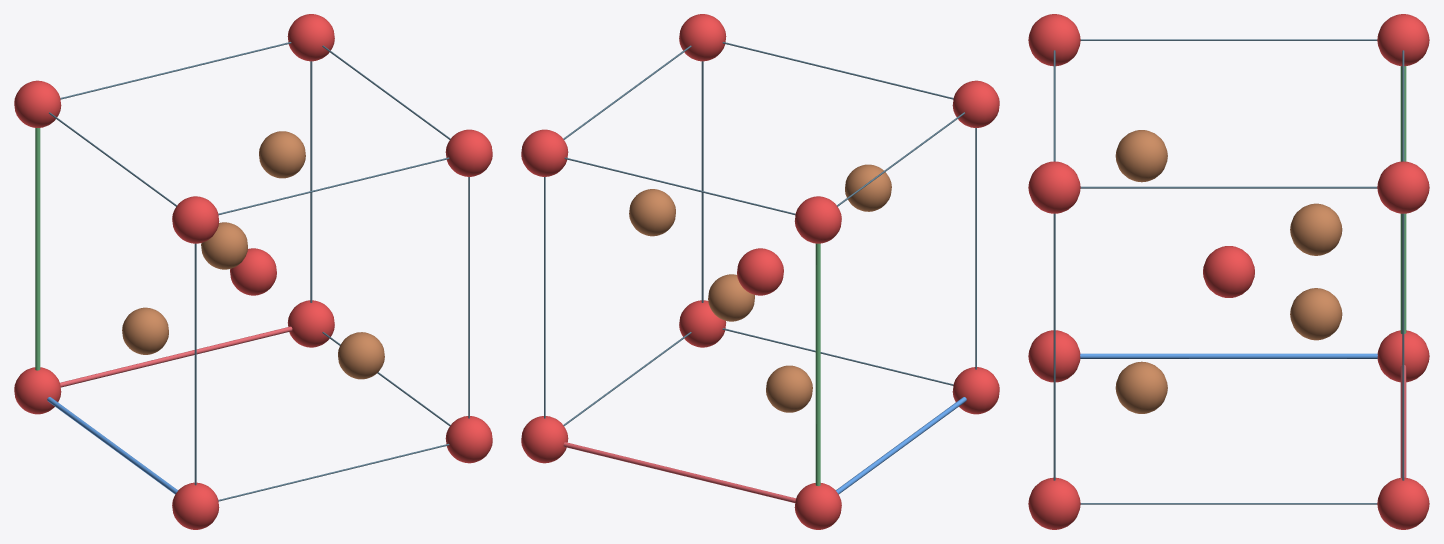
Rendered from chat-cuprite.glb.
3 views of the same model, side by side, from view 1: azimuth 30°, elevation 25°; view 2: azimuth 150°, elevation 25°; view 3: azimuth 270°, elevation 25° (orthographic). The views are drawn at different scales.
Parts seen in each view (by area): view 1: O · O · 1 (×9), Ô mạng và các trục a, b, c, Cu · Cu · 1 (×4); view 2: O · O · 1 (×9), Ô mạng và các trục a, b, c, Cu · Cu · 1 (×4); view 3: O · O · 1 (×9), Cu · Cu · 1 (×4), Ô mạng và các trục a, b, c.
Boxes of the visible parts, box(x1,y1,x2,y2) form: O · O · 1 (×9): box(14, 14, 492, 529); Ô mạng và các trục a, b, c: box(35, 42, 469, 501); Cu · Cu · 1 (×4): box(122, 131, 384, 379); O · O · 1 (×9): box(521, 14, 999, 529); Ô mạng và các trục a, b, c: box(544, 42, 976, 502); Cu · Cu · 1 (×4): box(629, 164, 891, 412); O · O · 1 (×9): box(1028, 14, 1429, 529); Cu · Cu · 1 (×4): box(1115, 130, 1342, 413); Ô mạng và các trục a, b, c: box(1053, 39, 1406, 504).
Size of the model in its own units: 4.91 by 4.91 by 4.91.
